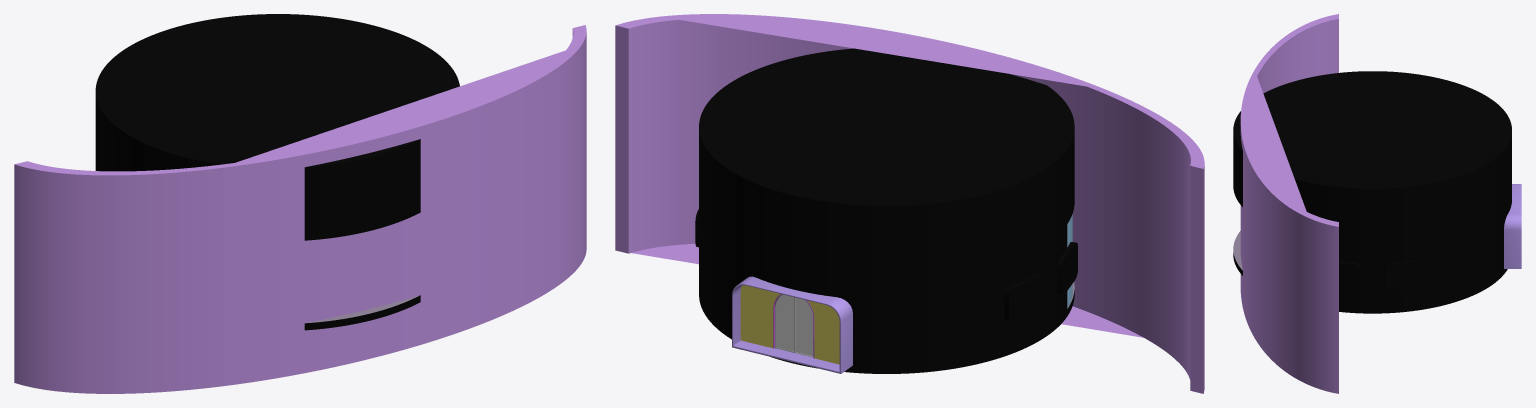
Rendered from ReceptionEIT2.fbx.
The picture shows the model from 3 angles, left to right: view 1: azimuth 30°, elevation 25°; view 2: azimuth 150°, elevation 25°; view 3: azimuth 270°, elevation 25°; orthographic projection. The views are drawn at different scales.
Parts seen in each view (by area): view 1: Cylinder.001, Techo, Piso; view 2: Techo, Cylinder.001, Muro 1, Marco Entrada, Ventanas, Piso, CorrederaIzq, CorrederaDer; view 3: Techo, Cylinder.001, Muro 1, Ventanas, Marco Entrada, Piso.
Boxes of the visible parts, x1=… form: Cylinder.001: x1=14, y1=25, x2=586, y2=393; Techo: x1=95, y1=14, x2=459, y2=240; Piso: x1=304, y1=295, x2=420, y2=330; Techo: x1=699, y1=48, x2=1074, y2=281; Cylinder.001: x1=615, y1=14, x2=1204, y2=393; Muro 1: x1=699, y1=205, x2=1072, y2=366; Marco Entrada: x1=732, y1=276, x2=852, y2=373; Ventanas: x1=695, y1=209, x2=1077, y2=323; Piso: x1=699, y1=282, x2=1074, y2=373; CorrederaIzq: x1=775, y1=294, x2=794, y2=352; CorrederaDer: x1=794, y1=297, x2=813, y2=357; Techo: x1=1233, y1=71, x2=1511, y2=244; Cylinder.001: x1=1240, y1=14, x2=1338, y2=393; Muro 1: x1=1339, y1=189, x2=1511, y2=308; Ventanas: x1=1339, y1=260, x2=1423, y2=290; Marco Entrada: x1=1504, y1=184, x2=1521, y2=268; Piso: x1=1233, y1=231, x2=1507, y2=313.
Size of the model in its own units: 2531 by 925 by 1448.
